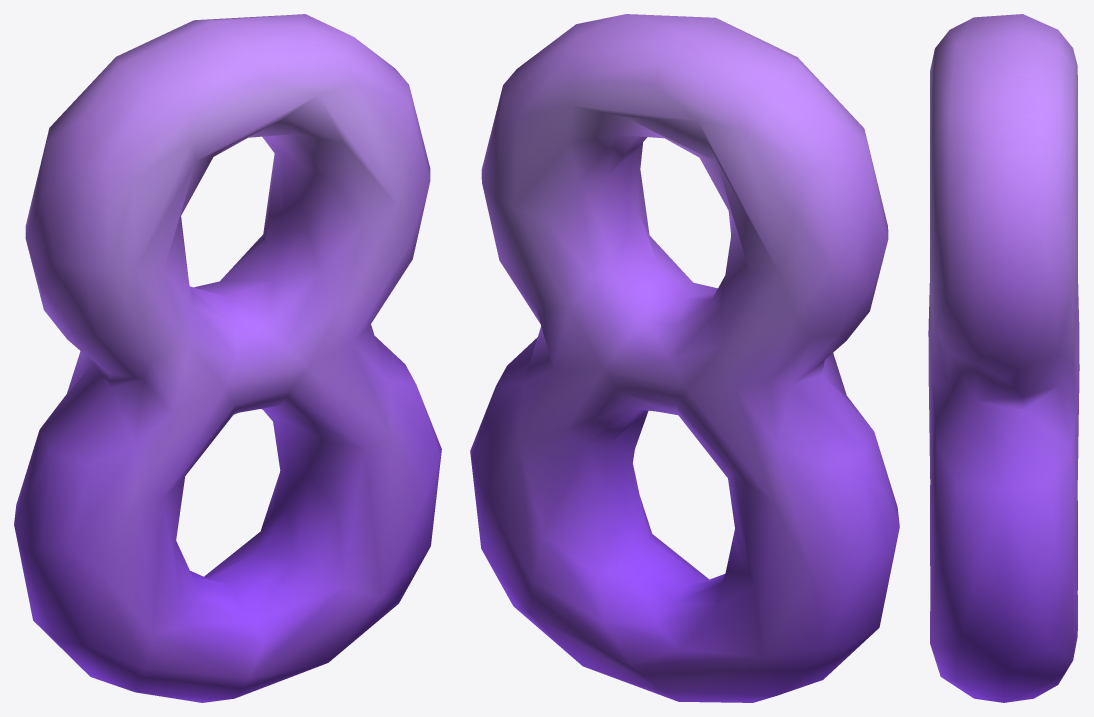
3 renders of one model, left to right at view 1: azimuth 30°, elevation 25°; view 2: azimuth 150°, elevation 25°; view 3: azimuth 270°, elevation 25°, orthographic. The views are drawn at different scales.
Visible parts, largest first — view 1: Processed_Mesh0_Geometry; view 2: Processed_Mesh0_Geometry; view 3: Processed_Mesh0_Geometry.
Part boxes in pixels (<box>): Processed_Mesh0_Geometry: <box>14,14,441,702</box>; Processed_Mesh0_Geometry: <box>470,14,899,702</box>; Processed_Mesh0_Geometry: <box>928,14,1079,702</box>.
Size of what is drawn, in the model's own units: 0.0537 by 0.0831 by 0.0179.
Materials: 1 (1 with a texture image).
